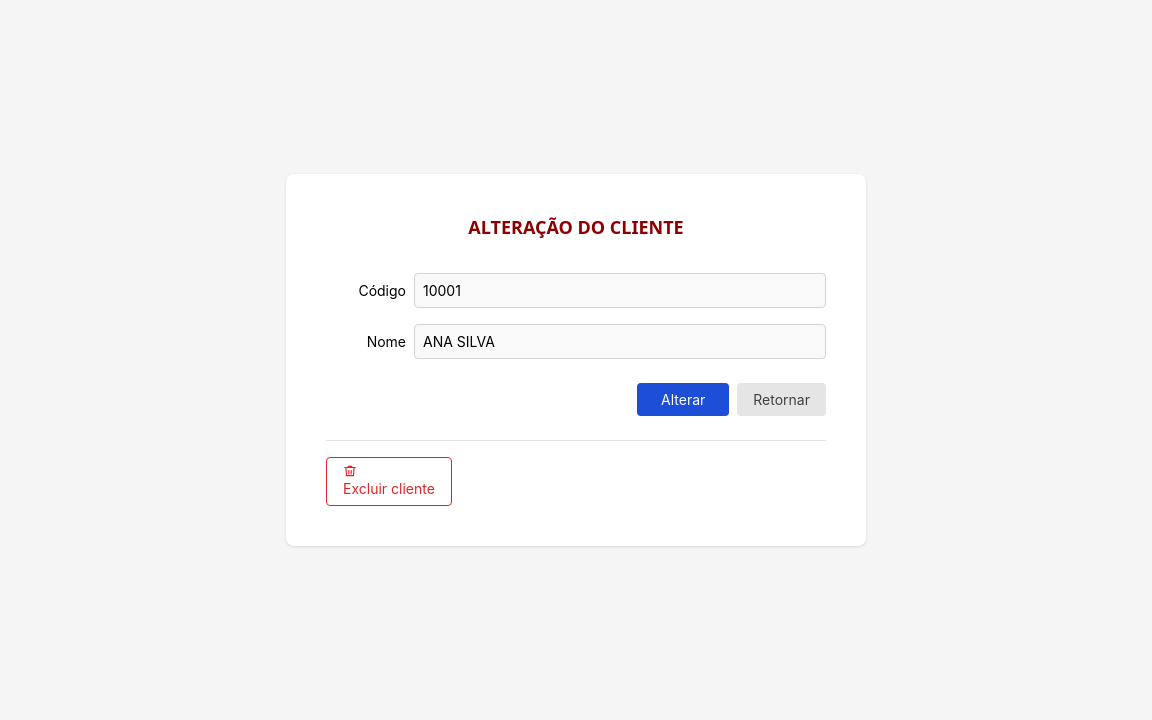
Test: Alterar › senha incorreta › exibe mensagem de erro quando senha incorreta
Passo 1 — confirmação inicial
Step 1. Click the button "Excluir cliente" → [389, 482], box [326, 457, 452, 506]
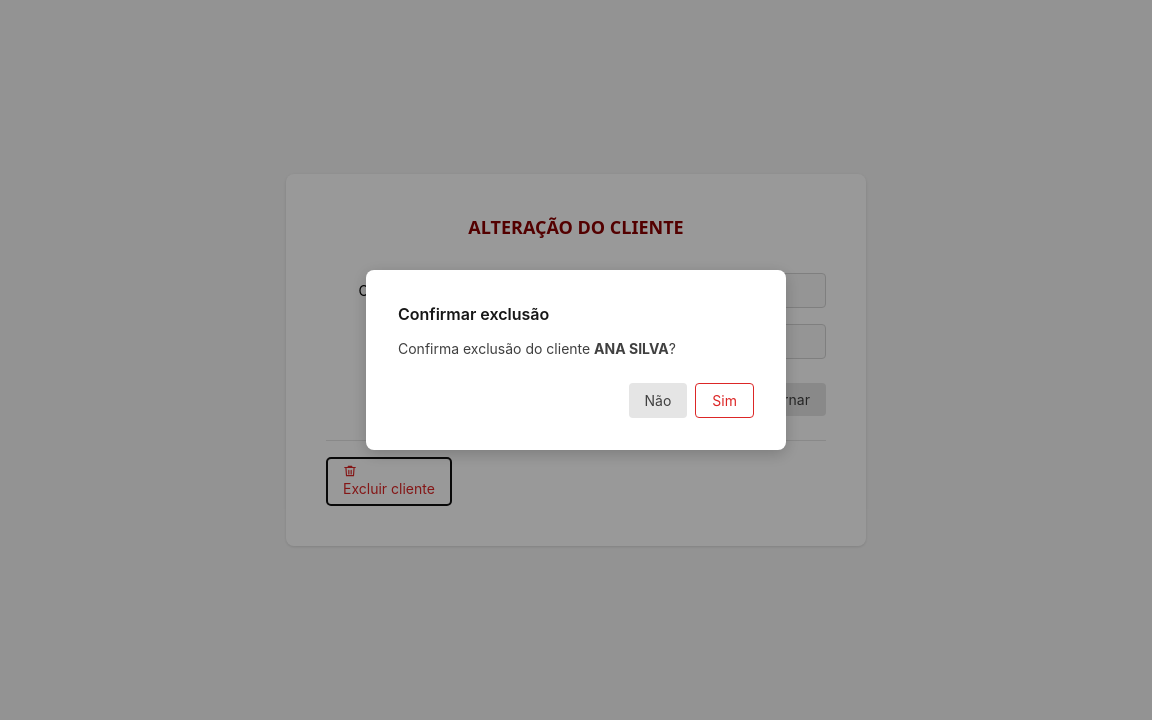
Expected: the text "Confirma exclusão do cliente ANA SILVA?" is shown, [398, 340, 676, 357]
Step 2. Click the button "Sim" → [725, 400], box [695, 383, 754, 418]
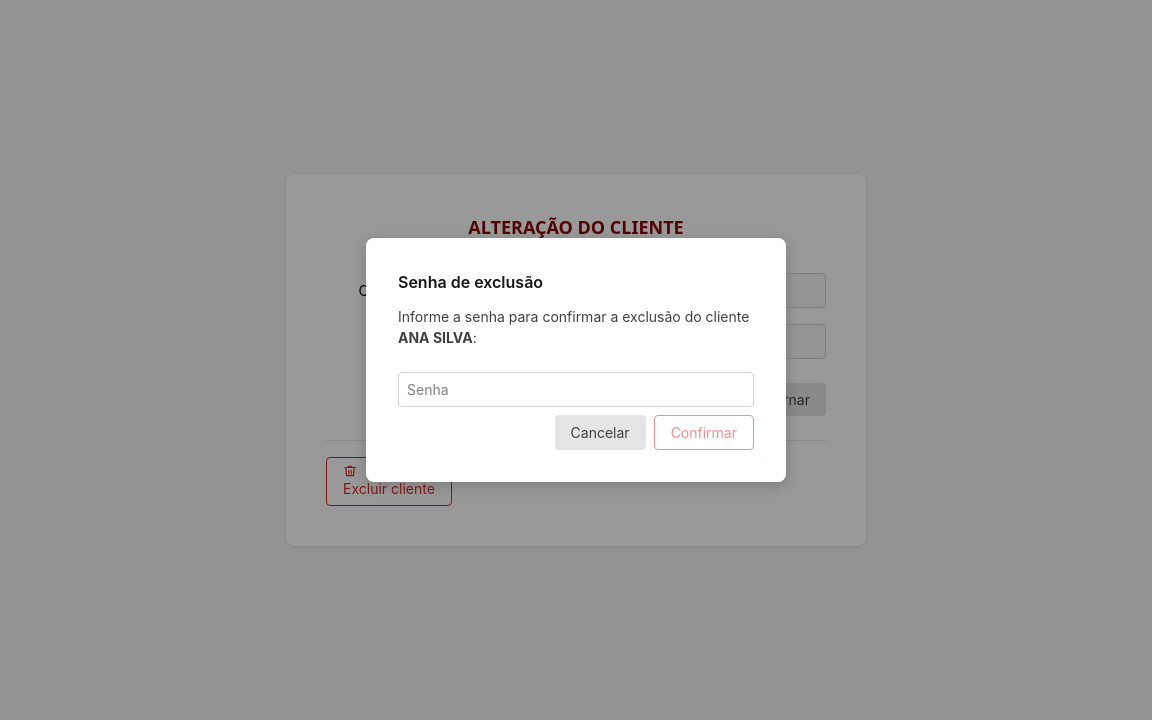
Expected: the password field with placeholder "Senha" is shown
Step 3. Type "ERRADA" into the password field with placeholder "Senha" → [576, 390], box [398, 372, 754, 407]
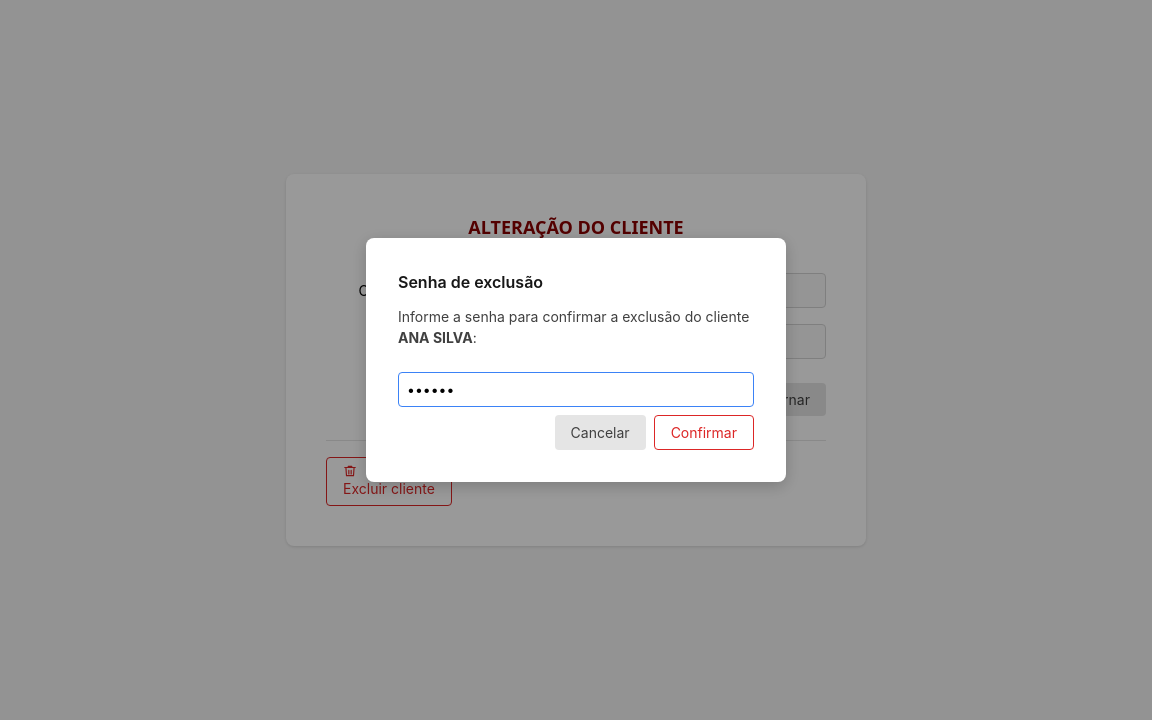
Step 4. Click the button "Confirmar" → [704, 432], box [654, 415, 754, 450]
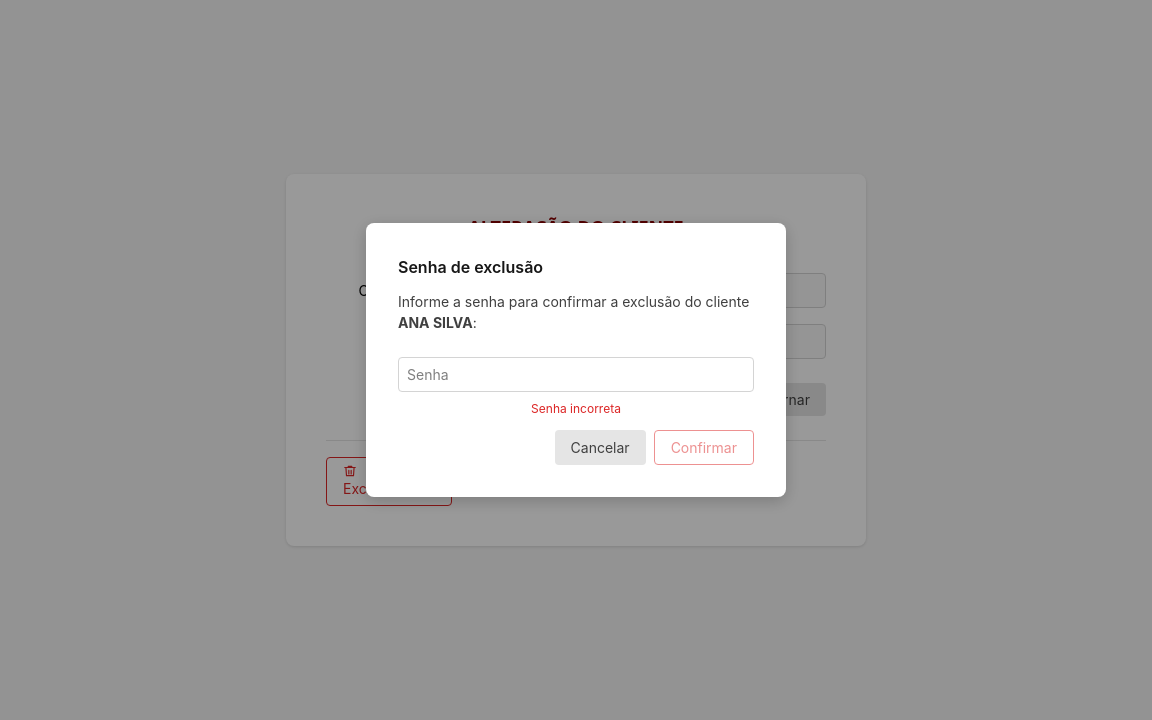
Expected: the text "Senha incorreta" is shown, [531, 401, 621, 416]
